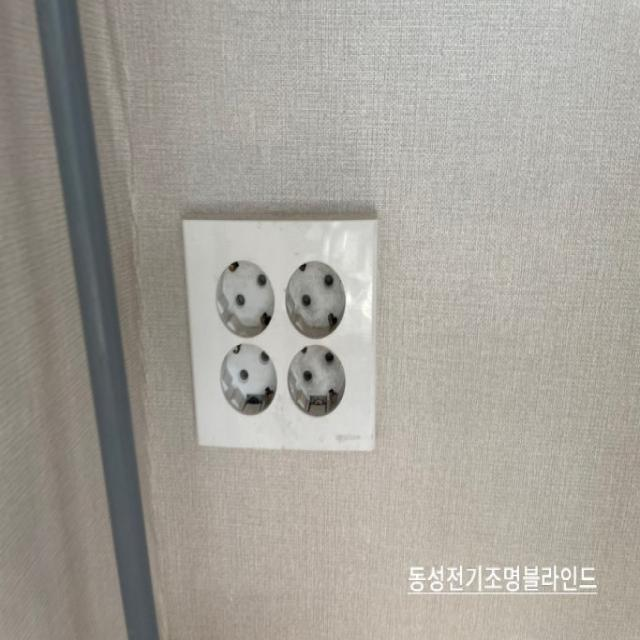typeb: (157, 195, 394, 462)
